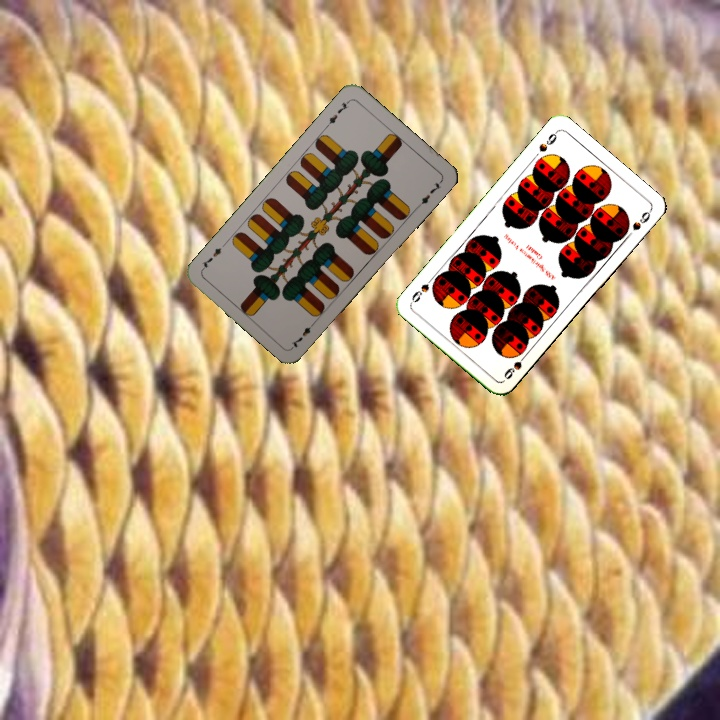E7: (287, 317, 319, 350), (322, 96, 352, 130)
S9: (500, 349, 530, 382), (535, 127, 560, 155)
